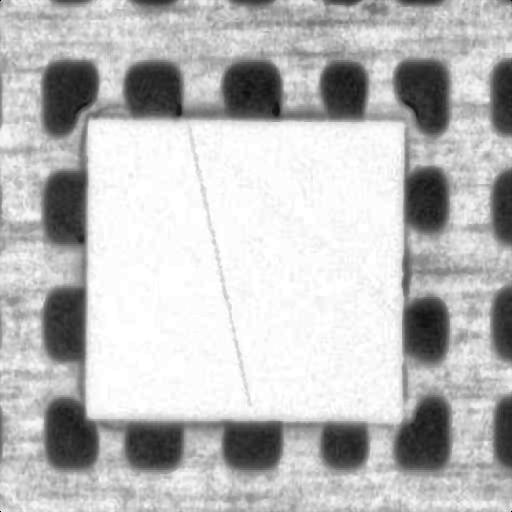DIE_CRACK: (248, 92, 330, 303)
